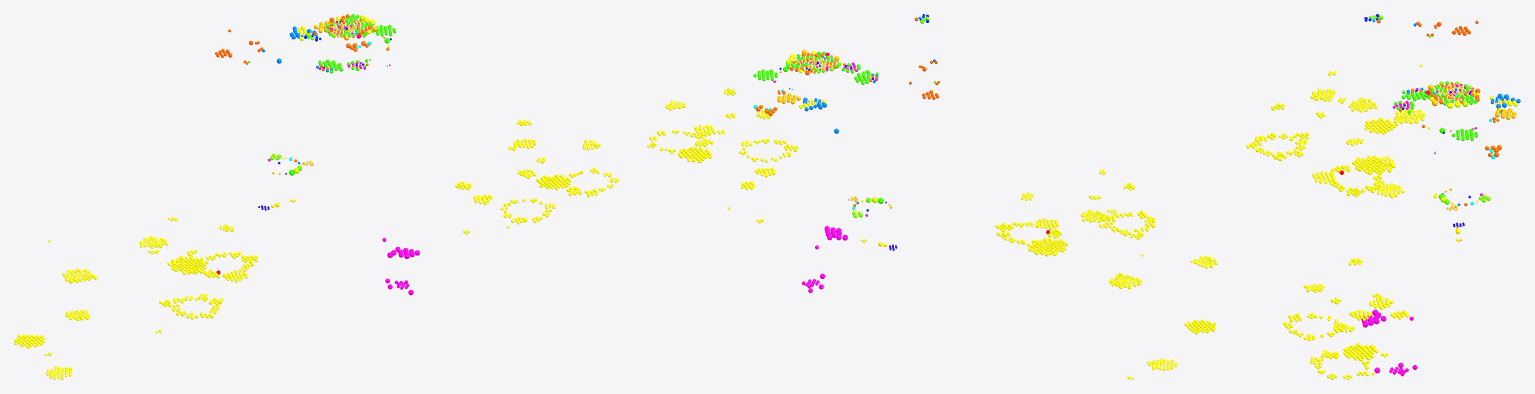
File: task-30e59bd0a-layout.gltf
3 renders of one model, left to right at view 1: azimuth 30°, elevation 25°; view 2: azimuth 150°, elevation 25°; view 3: azimuth 270°, elevation 25°, orthographic. The views are drawn at different scales.
Visible parts, largest first — view 1: normal_java_files, normal_tar_files; view 2: normal_java_files, normal_tar_files, normal_zip_files; view 3: normal_java_files, normal_tar_files, normal_zip_files, normal_apk_files, normal_7z_files, normal_xml_files, normal_jar_files.
Boxes of the visible parts, x1=… form: normal_java_files: x1=14, y1=119, x2=618, y2=379; normal_tar_files: x1=289, y1=14, x2=396, y2=175; normal_java_files: x1=647, y1=87, x2=1217, y2=379; normal_tar_files: x1=753, y1=51, x2=883, y2=203; normal_zip_files: x1=756, y1=52, x2=878, y2=206; normal_java_files: x1=1246, y1=64, x2=1436, y2=379; normal_tar_files: x1=1394, y1=81, x2=1477, y2=198; normal_zip_files: x1=1399, y1=82, x2=1501, y2=206; normal_apk_files: x1=1361, y1=309, x2=1417, y2=376; normal_7z_files: x1=1428, y1=84, x2=1516, y2=192; normal_xml_files: x1=1376, y1=19, x2=1478, y2=100; normal_jar_files: x1=1406, y1=87, x2=1520, y2=205.
Size of the model in its own units: 505 by 237 by 193.
